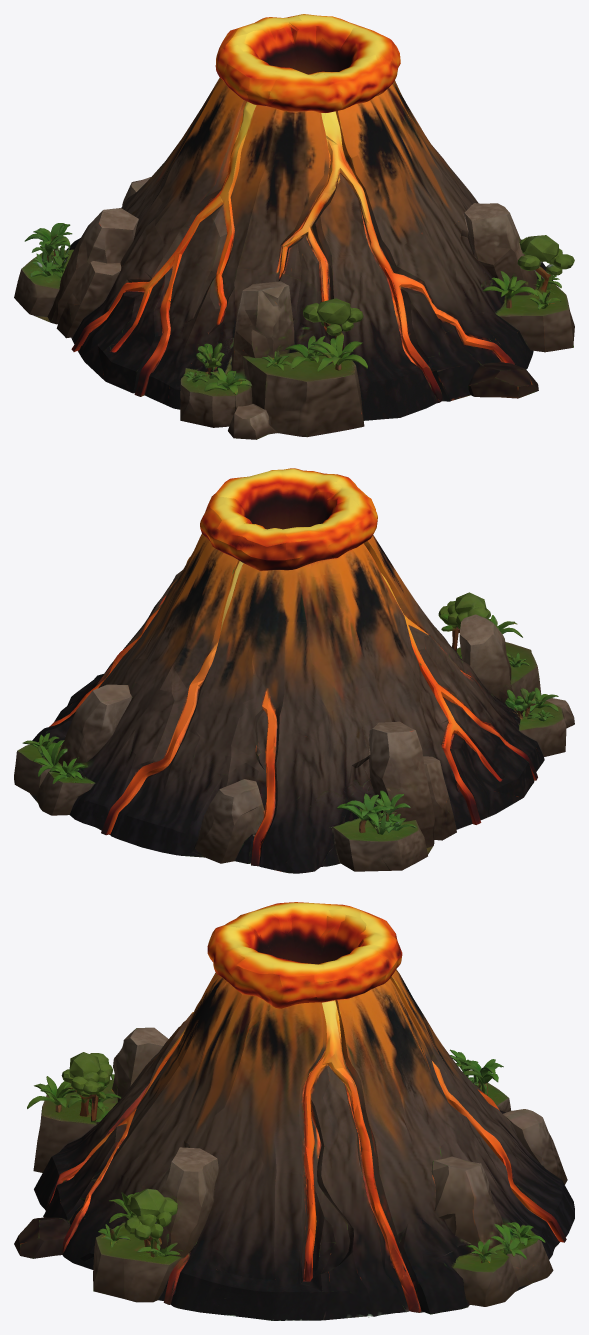
Rendered from volcano.glb.
The picture shows the model from 3 angles, top to bottom: view 1: azimuth 30°, elevation 25°; view 2: azimuth 150°, elevation 25°; view 3: azimuth 270°, elevation 25°; orthographic projection. The views are drawn at different scales.
Size of the model in its own units: 1.79 by 1.03 by 1.9.
Materials: 1 (1 with a texture image).
